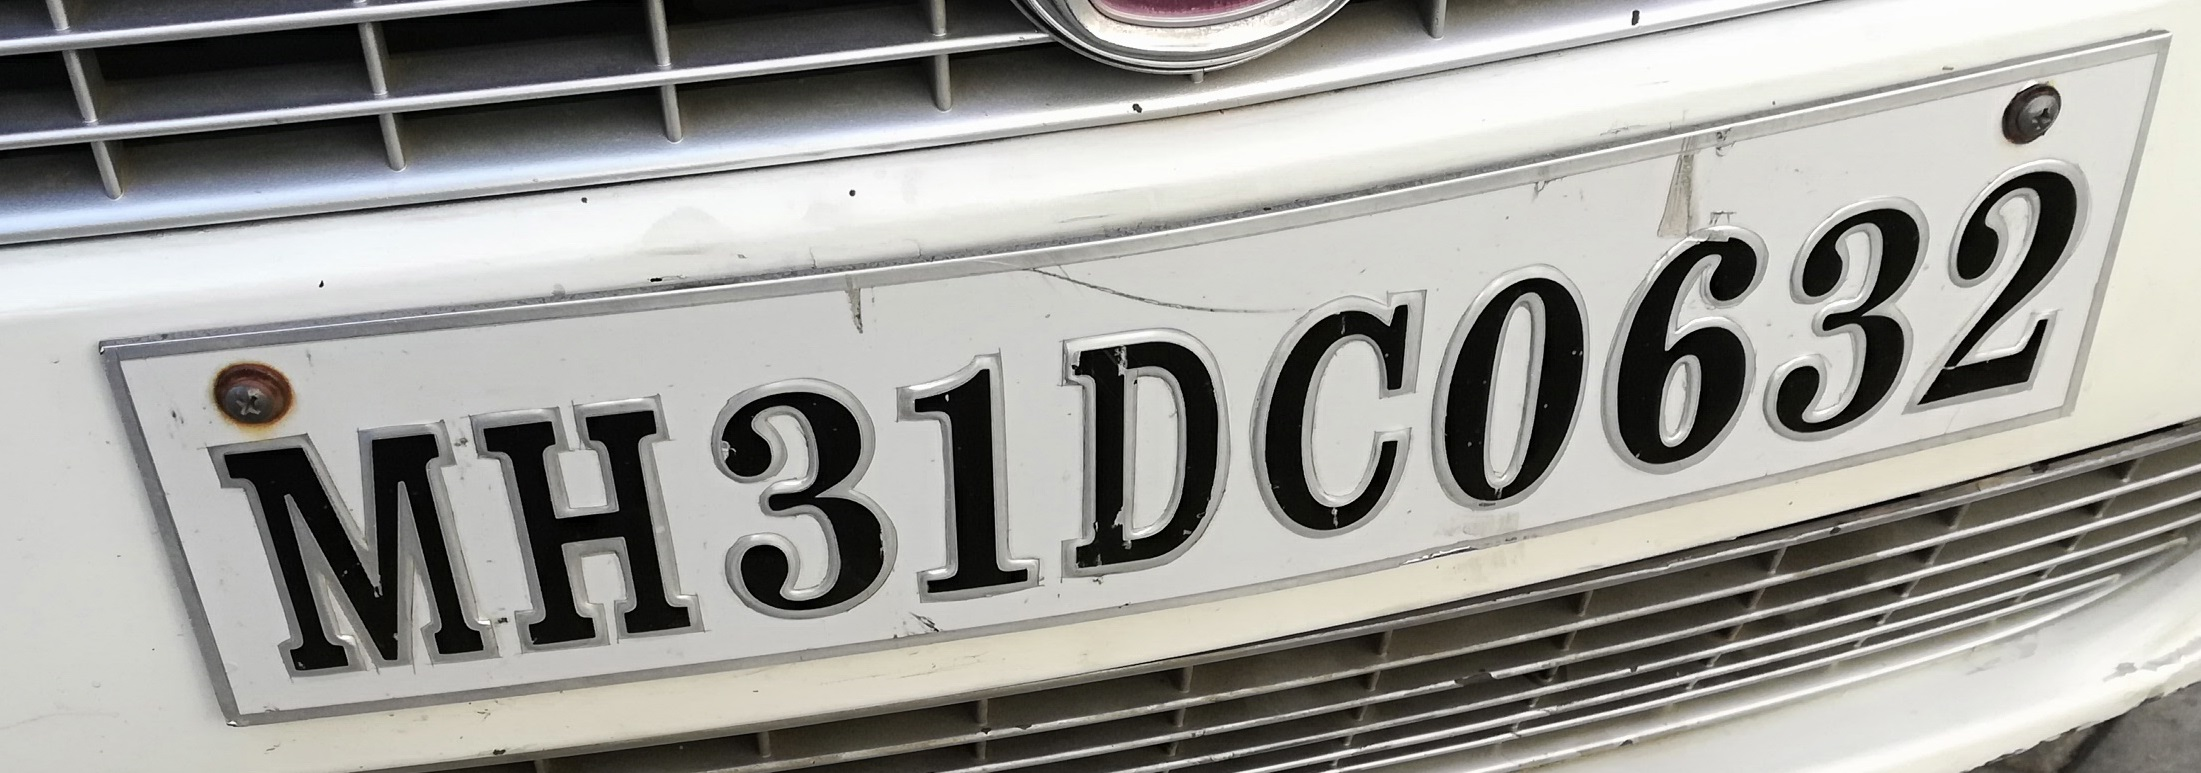numberplate: (94, 30, 2201, 725)
